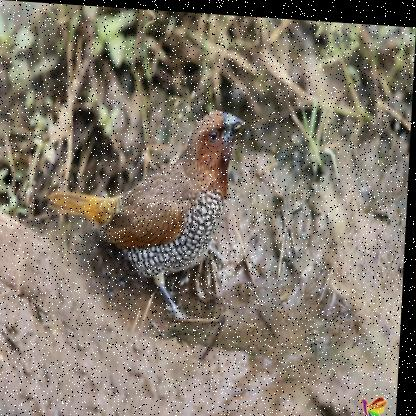Burung: (45, 99, 247, 319)
